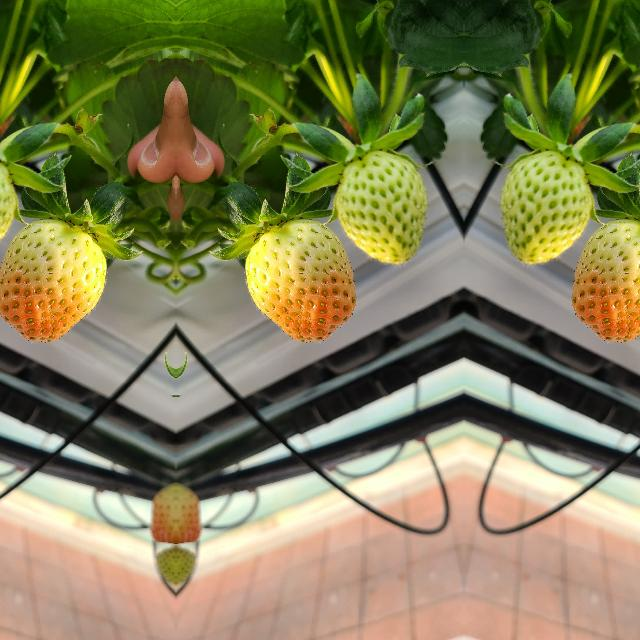Health_25: (334, 140, 420, 268), (506, 140, 592, 268)
Health_75: (244, 220, 354, 340), (0, 219, 106, 340), (572, 219, 640, 340)
